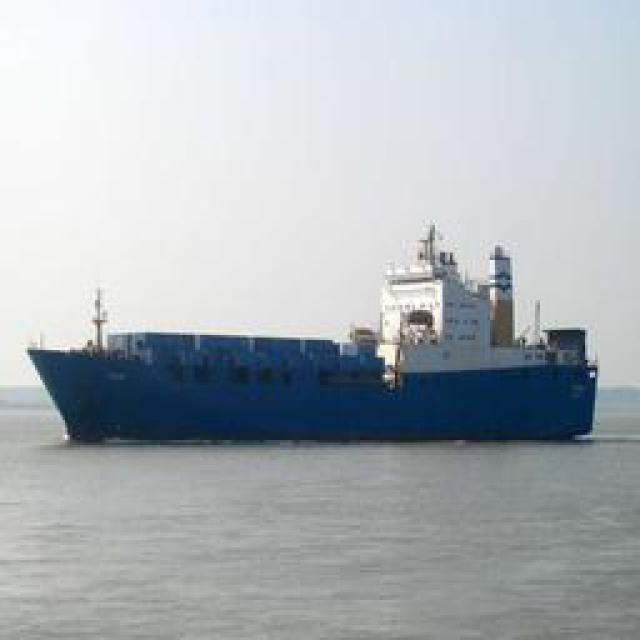Ship: (25, 240, 605, 445)
